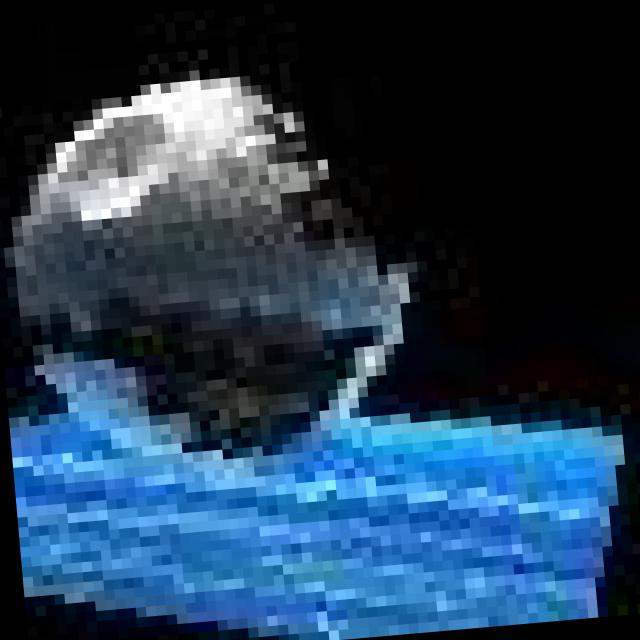Death Star: (0, 40, 451, 476)
